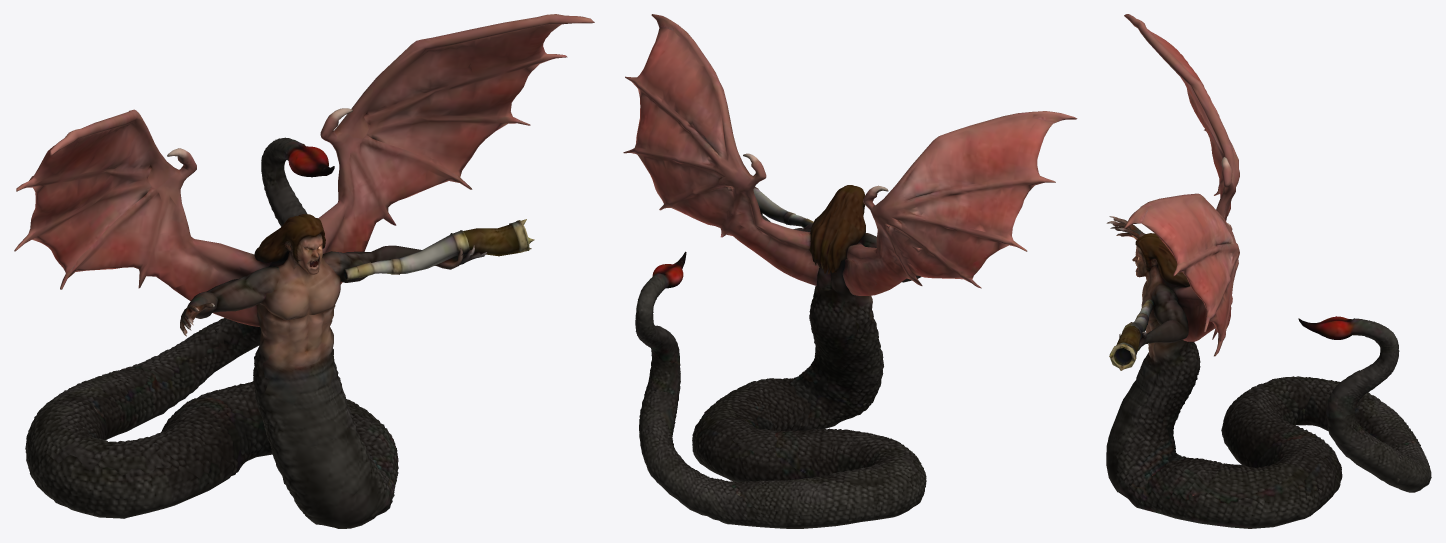
The model's file is MZ4250 - Geryon.glb.
3 views of the same model, side by side, from view 1: azimuth 30°, elevation 25°; view 2: azimuth 150°, elevation 25°; view 3: azimuth 270°, elevation 25° (orthographic). The views are drawn at different scales.
Parts seen in each view (by area): view 1: Body.002; view 2: Body.002; view 3: Body.002.
Boxes of the visible parts, x1,y1,x2,y2 form: Body.002: [14, 14, 594, 528]; Body.002: [623, 14, 1077, 528]; Body.002: [1106, 14, 1431, 528].
Bounding box in the file's own units: 2.68 × 2.15 × 1.71.
Materials: 1 (1 with a texture image).
